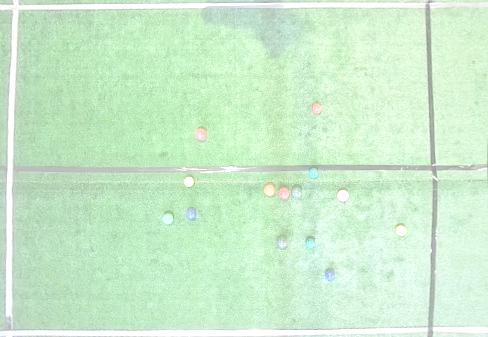blue: (186, 210, 196, 221), (325, 271, 335, 282)
green: (276, 238, 288, 251), (161, 214, 174, 226), (309, 167, 319, 180), (305, 238, 315, 250), (292, 188, 302, 199)
red: (263, 184, 277, 199), (278, 187, 291, 201), (195, 128, 207, 141), (337, 191, 350, 203), (311, 103, 322, 114)
vline: (424, 0, 487, 337), (0, 0, 21, 337)
white: (229, 166, 234, 171)
yellow: (395, 226, 407, 238), (183, 177, 195, 188)
